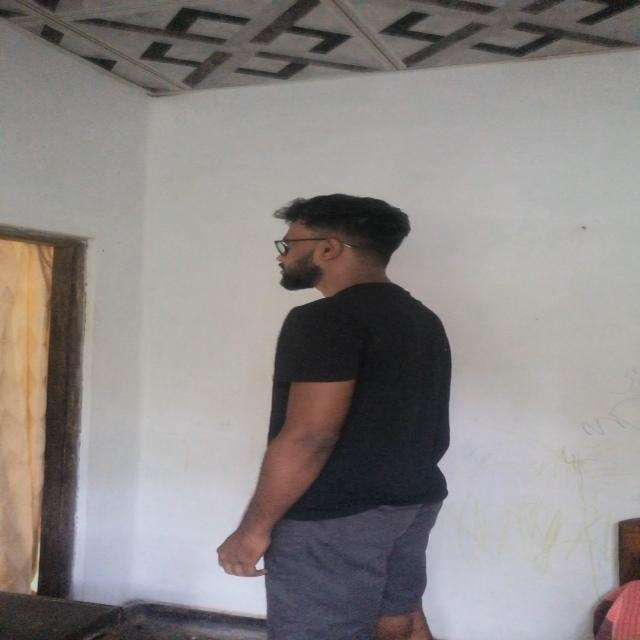Person: (218, 196, 470, 640)
